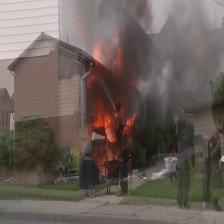fire: (74, 39, 145, 184)
smoke: (84, 0, 224, 111)
